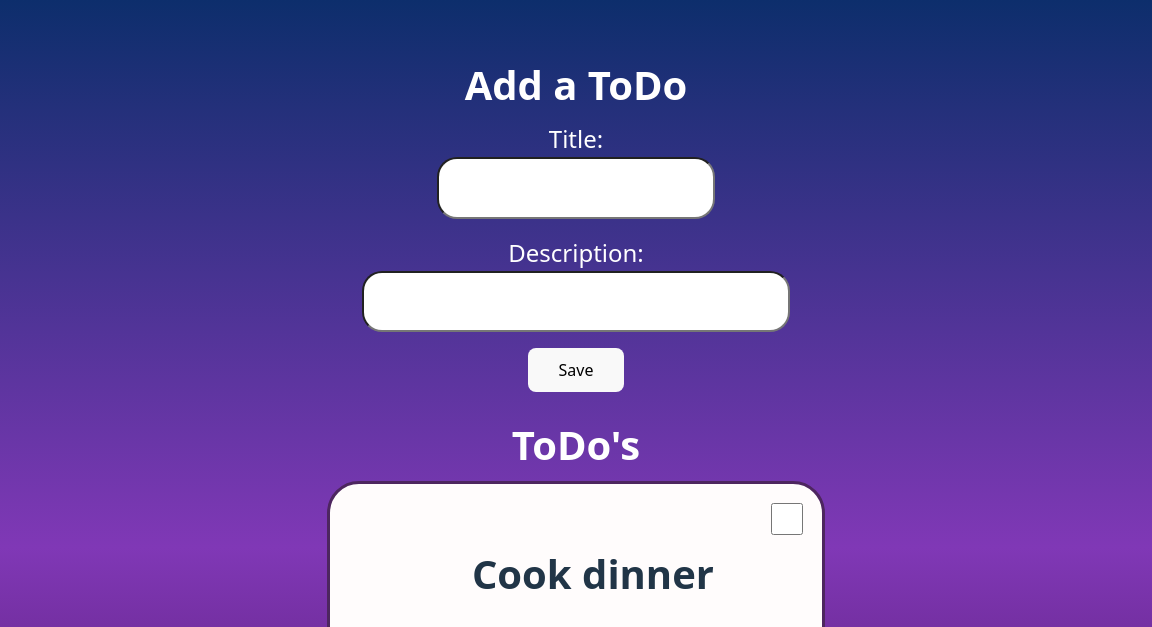
Test: Todo app › can add new todo items
The width and height of the screenshot is (1152, 627).
In the field with id "title": (577, 188) [437,157,716,219], type "Feed the cat"
Then press Enter
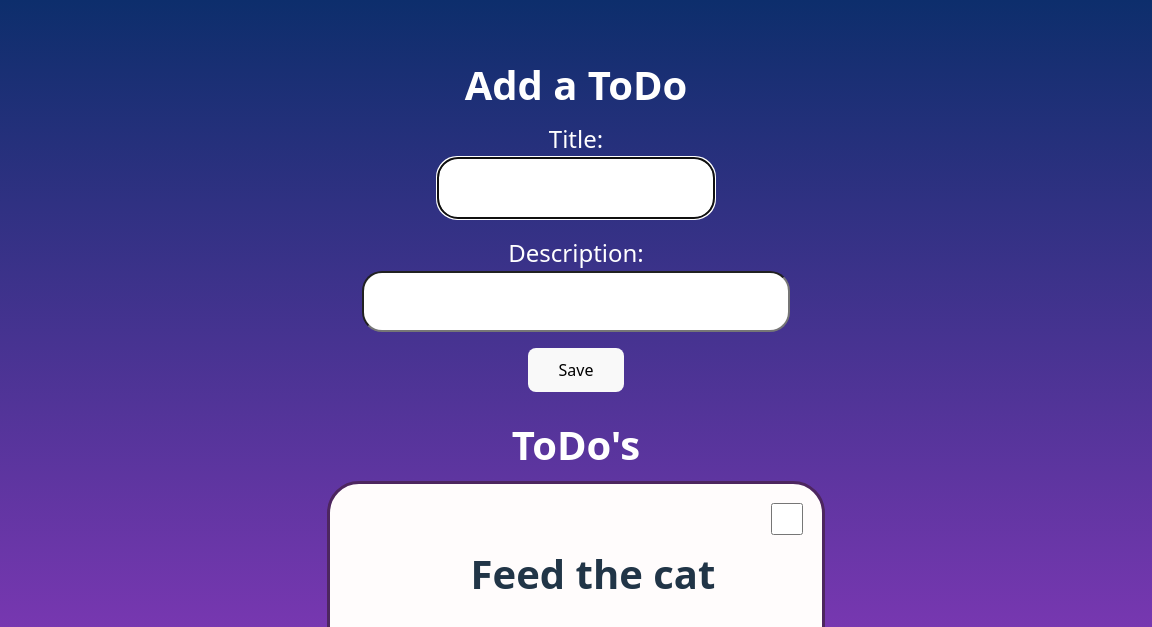
Expected: the heading "Feed the cat" is shown, [451,554,735,594]
